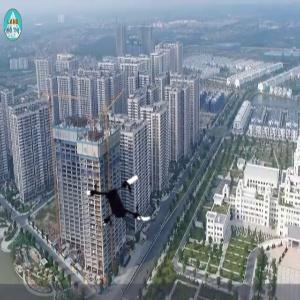drone: (87, 165, 159, 237)
